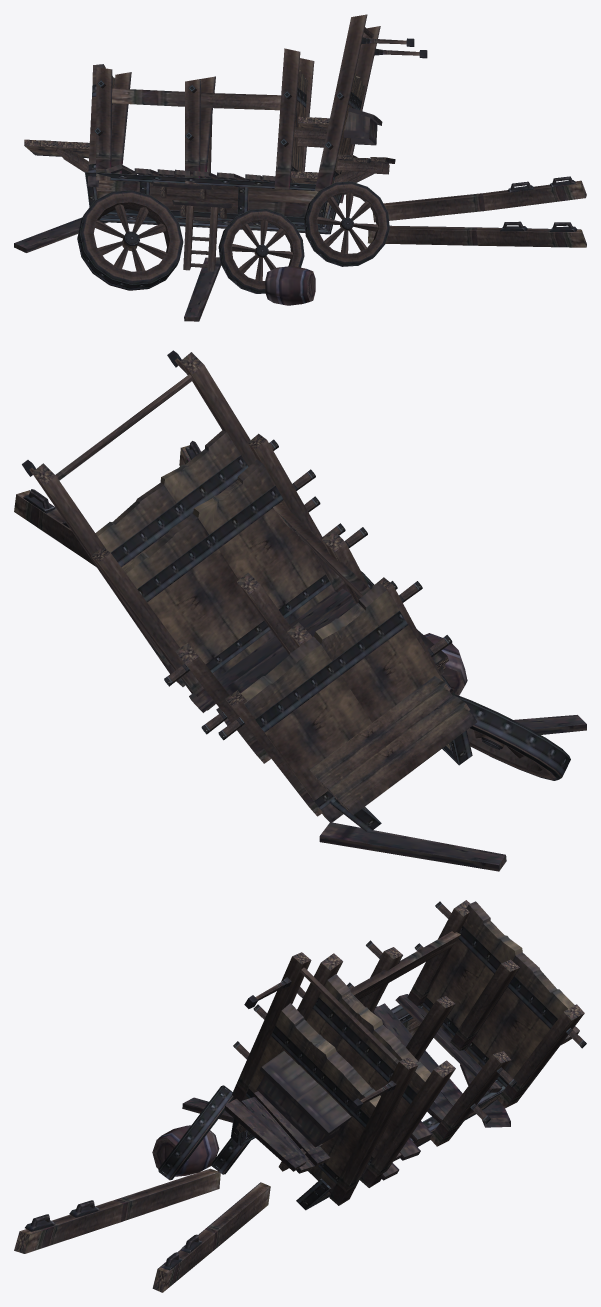
The model's file is zshh_che_1.FBX.
3 views of the same model, one above another, from view 1: azimuth 30°, elevation 25°; view 2: azimuth 150°, elevation 25°; view 3: azimuth 270°, elevation 25° (orthographic). The views are drawn at different scales.
Visible parts, largest first — view 1: KQZD_che_1; view 2: KQZD_che_1; view 3: KQZD_che_1.
Boxes of the visible parts, x1=… form: KQZD_che_1: x1=14, y1=14, x2=586, y2=321; KQZD_che_1: x1=14, y1=350, x2=586, y2=871; KQZD_che_1: x1=14, y1=900, x2=586, y2=1292.
Bounding box in the file's own units: 238 × 210 × 118.
